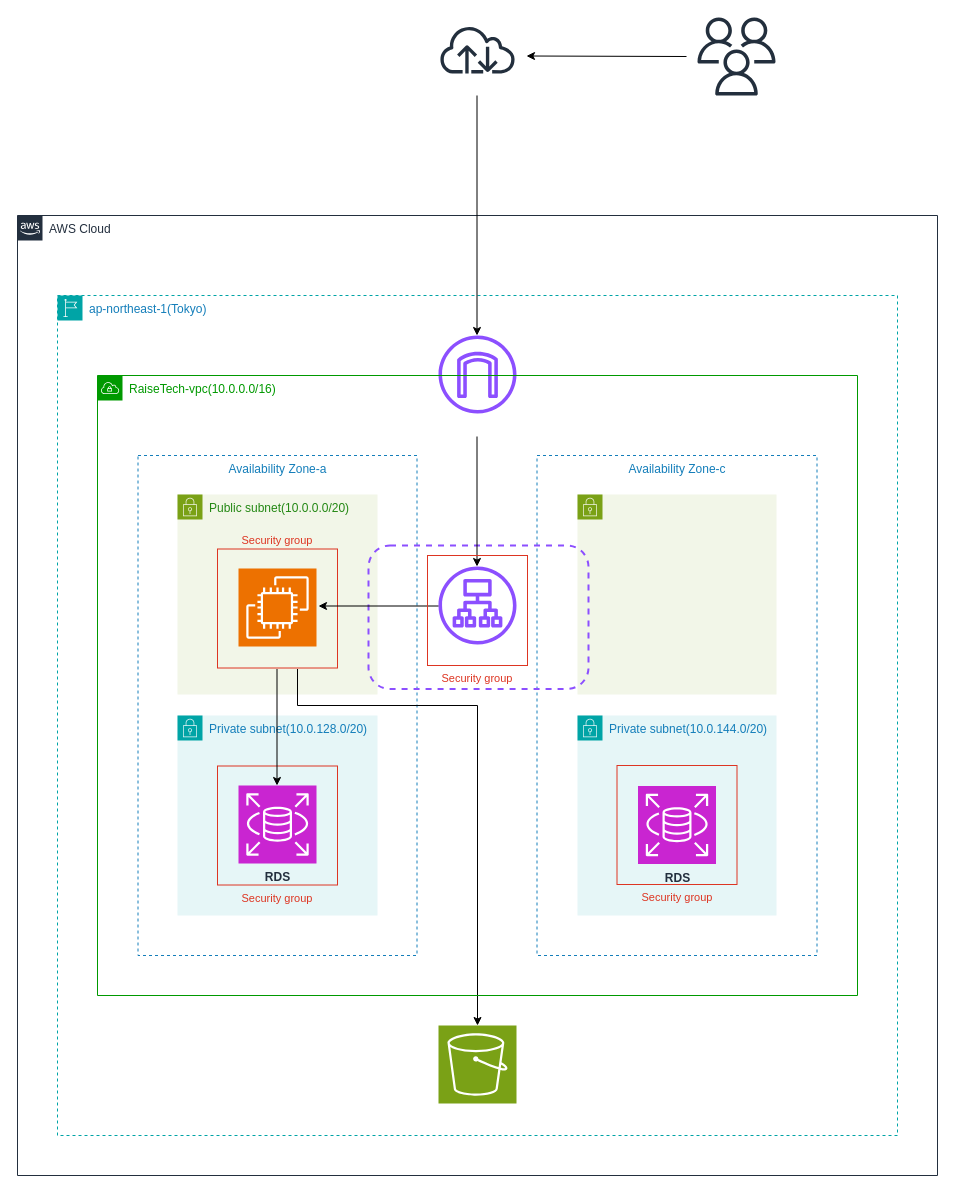
The diagram is 955 pixels wide and 1193 high, and some of its shapes have lost their labels. Each missing label, with the centre of its shape:
ALB: point 477,605
EC2: point 277,607
IGW: point 477,374
Internet: point 477,49
Public subnet(10.0.16.0/20): point 676,594
S3: point 477,1064
Users: point 736,56
